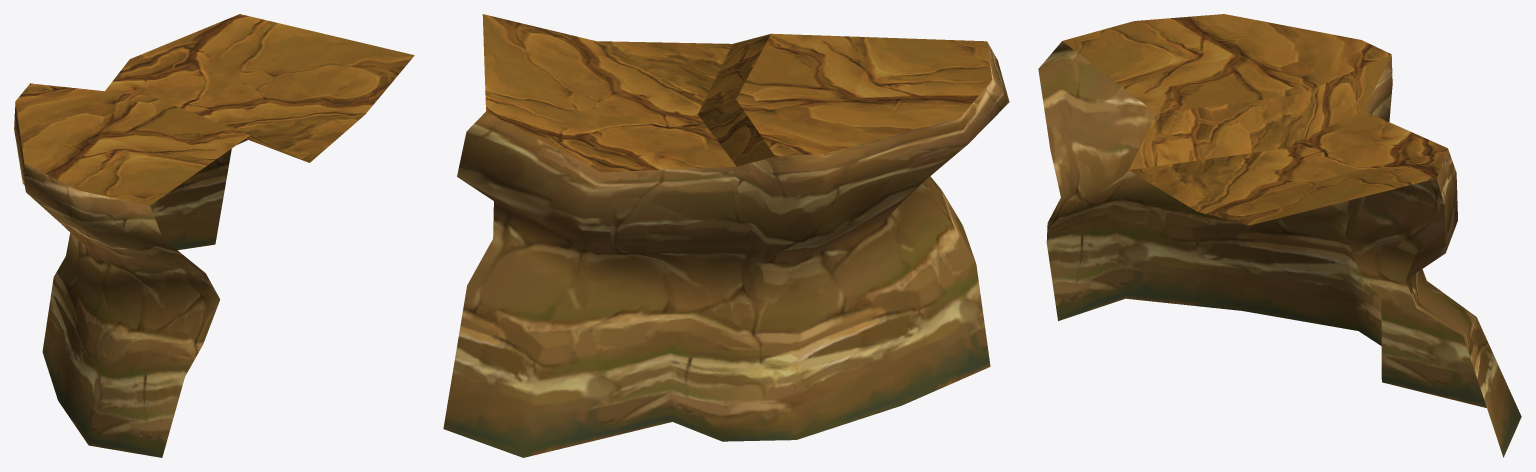
Rendered from SM_Stone_02.fbx.
The picture shows the model from 3 angles, left to right: view 1: azimuth 30°, elevation 25°; view 2: azimuth 150°, elevation 25°; view 3: azimuth 270°, elevation 25°; orthographic projection. The views are drawn at different scales.
Visible parts, largest first — view 1: SM_Stone_02; view 2: SM_Stone_02; view 3: SM_Stone_02.
Part boxes in pixels (bbox=[...]): SM_Stone_02: bbox=[14, 14, 414, 457]; SM_Stone_02: bbox=[443, 14, 1009, 457]; SM_Stone_02: bbox=[1038, 14, 1521, 457].
Bounding box in the file's own units: 1608 × 973 × 1532.
